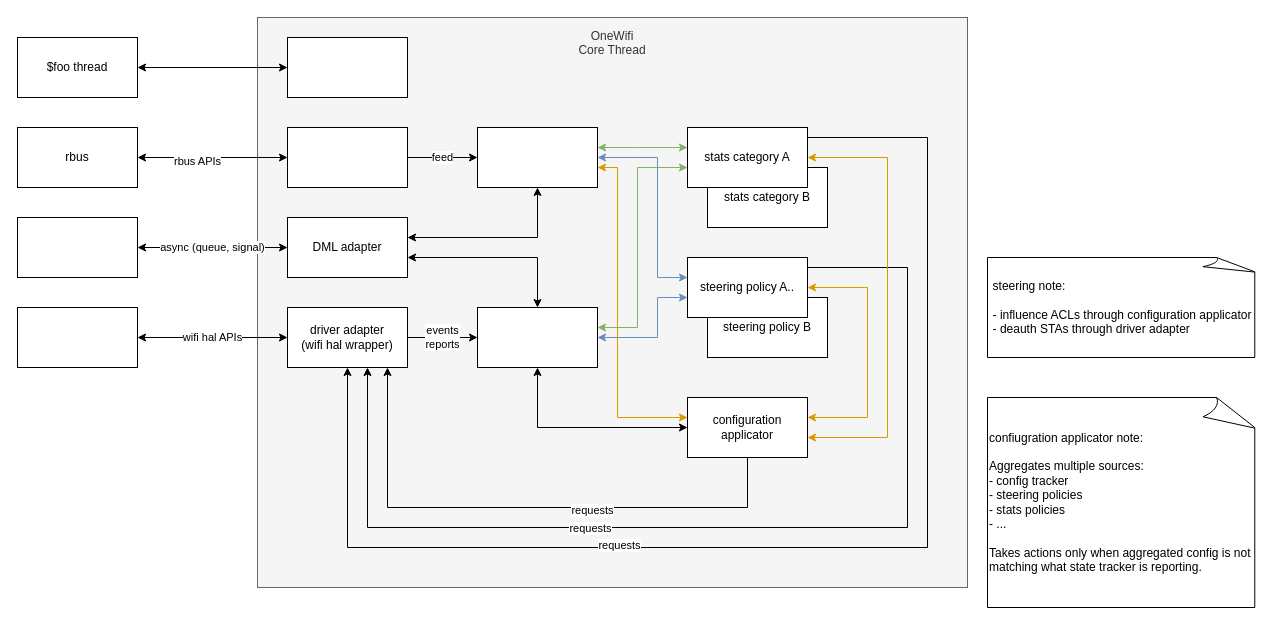
This 1275x625 diagram has some shape labels left out. Here are the shapes that lost their labels. From the top down, the centre of each, then its label:
At point 347,67: "$foo adapter".
At point 347,157: "rbus-webconfig adapter".
At point 537,157: "config tracker".
At point 77,247: "DML thread".
At point 77,337: "wifi driver".
At point 537,337: "state tracker".
